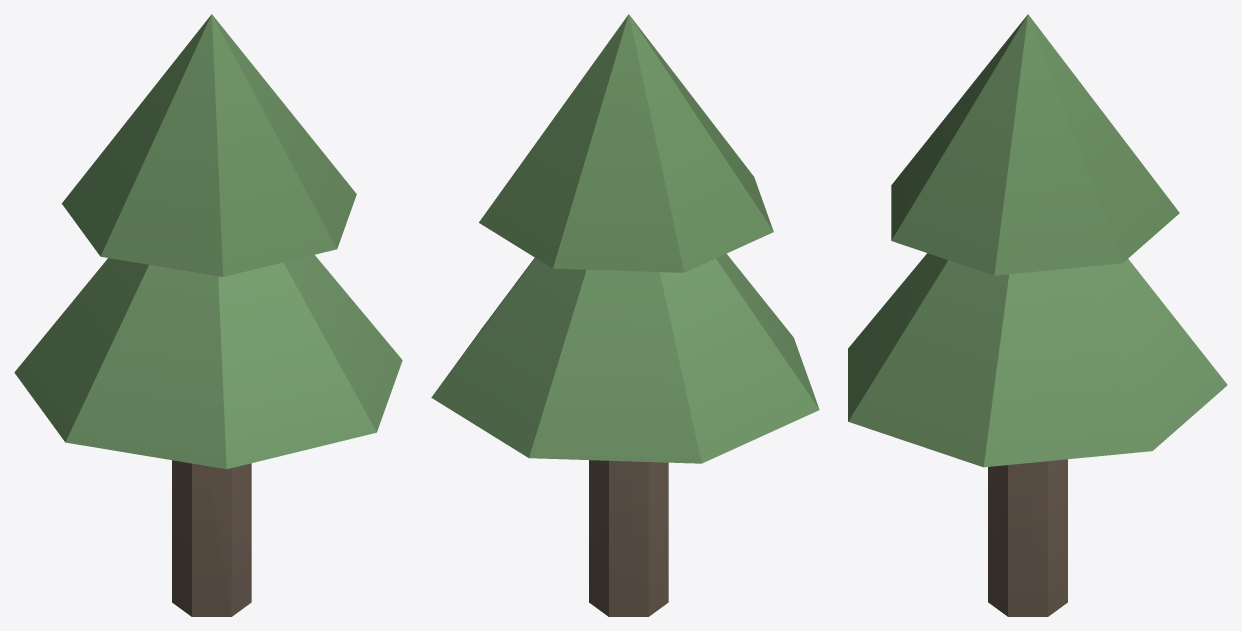
File: tree.glb
The picture shows the model from 3 angles, left to right: view 1: azimuth 30°, elevation 25°; view 2: azimuth 150°, elevation 25°; view 3: azimuth 270°, elevation 25°; orthographic projection.
Parts seen in each view (by area): view 1: tree; view 2: tree; view 3: tree.
Boxes of the visible parts, box(x1,y1,x2,y2) form: tree: box(14, 14, 402, 616); tree: box(431, 14, 819, 616); tree: box(848, 14, 1227, 616).
Bounding box in the file's own units: 0.9749 × 1.62 × 0.9505.
